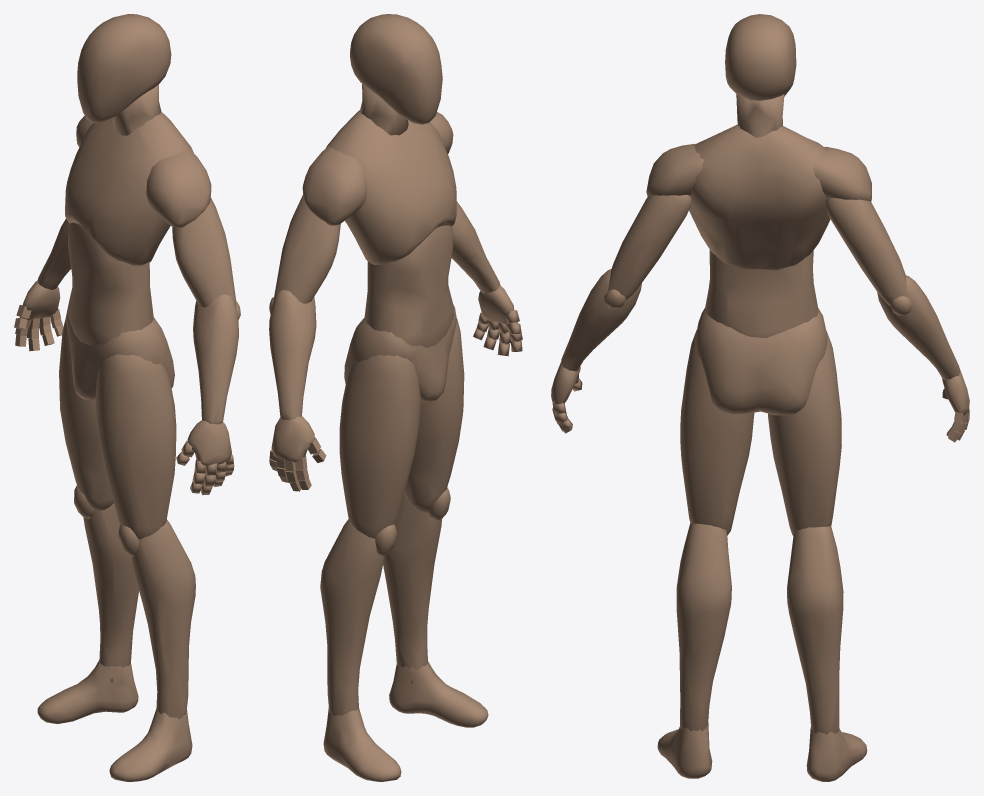
Rendered from dude.fbx.
The picture shows the model from 3 angles, left to right: view 1: azimuth 30°, elevation 25°; view 2: azimuth 150°, elevation 25°; view 3: azimuth 270°, elevation 25°; orthographic projection. The views are drawn at different scales.
Visible parts, largest first — view 1: Dude-1.001; view 2: Dude-1.001; view 3: Dude-1.001.
Part boxes in pixels (x1,y1,x2,y2): Dude-1.001: (14,14,240,781); Dude-1.001: (269,14,522,781); Dude-1.001: (551,14,969,781).
Size of the model in its own units: 28.61 by 180 by 90.88.
